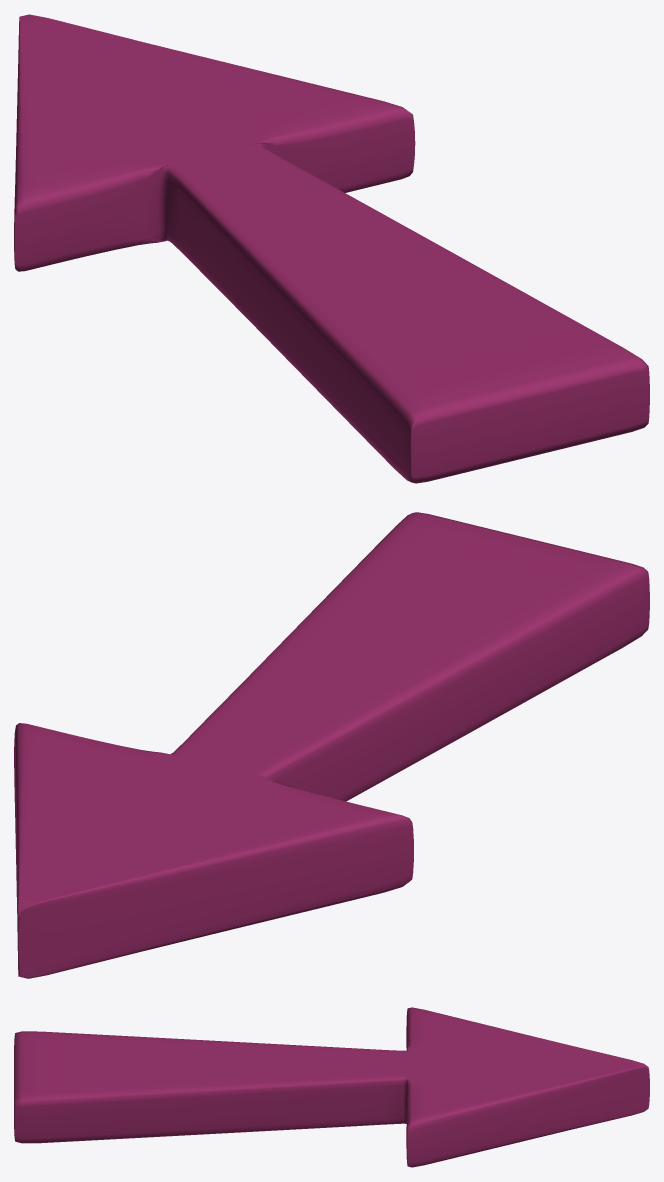
File: arrow.fbx
3 renders of one model, top to bottom at view 1: azimuth 30°, elevation 25°; view 2: azimuth 150°, elevation 25°; view 3: azimuth 270°, elevation 25°, orthographic. The views are drawn at different scales.
Parts seen in each view (by area): view 1: pCube1; view 2: pCube1; view 3: pCube1.
Part boxes in pixels (<box>): pCube1: <box>14,14,649,483</box>; pCube1: <box>14,512,649,978</box>; pCube1: <box>14,1007,649,1167</box>.
Size of the model in its own units: 0.4287 by 0.0771 by 0.9501.
